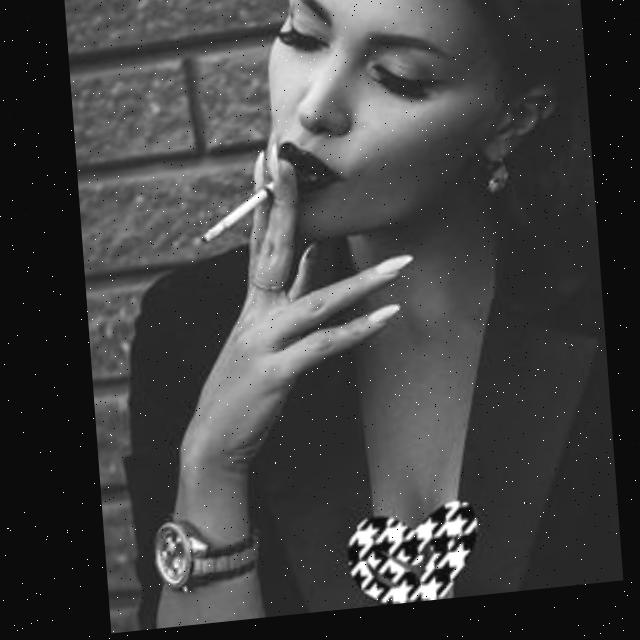cigarette: (193, 184, 282, 249)
